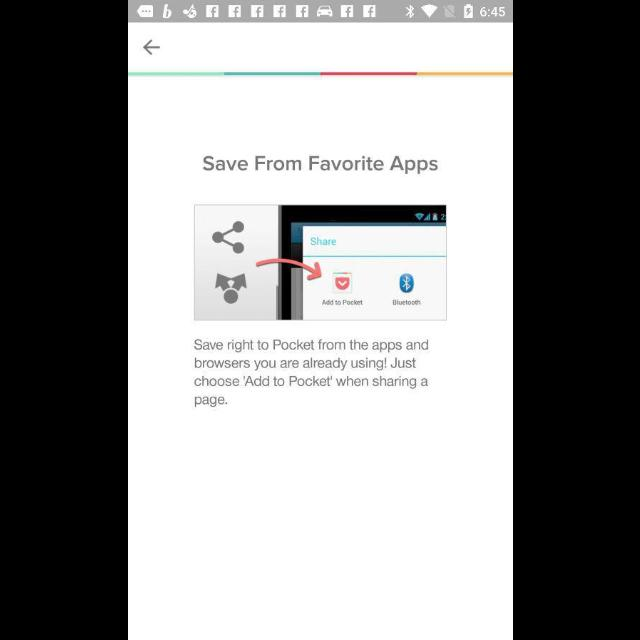icon: (142, 40, 160, 56)
image: (193, 205, 447, 322)
text: (194, 339, 428, 408), (202, 157, 438, 176)
uppertaskbar: (128, 1, 512, 23)
